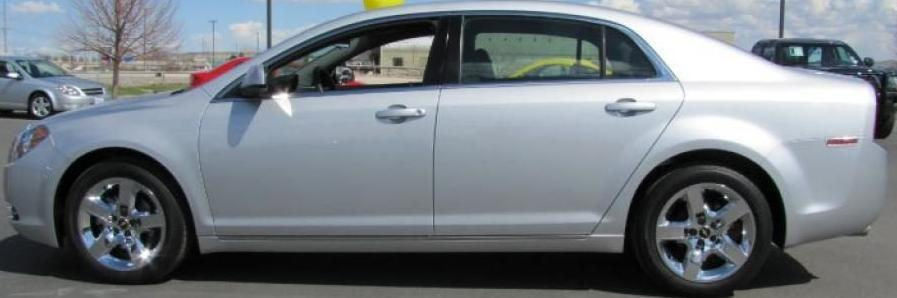headlight: (3, 117, 60, 165)
side_glass: (248, 7, 684, 109)
